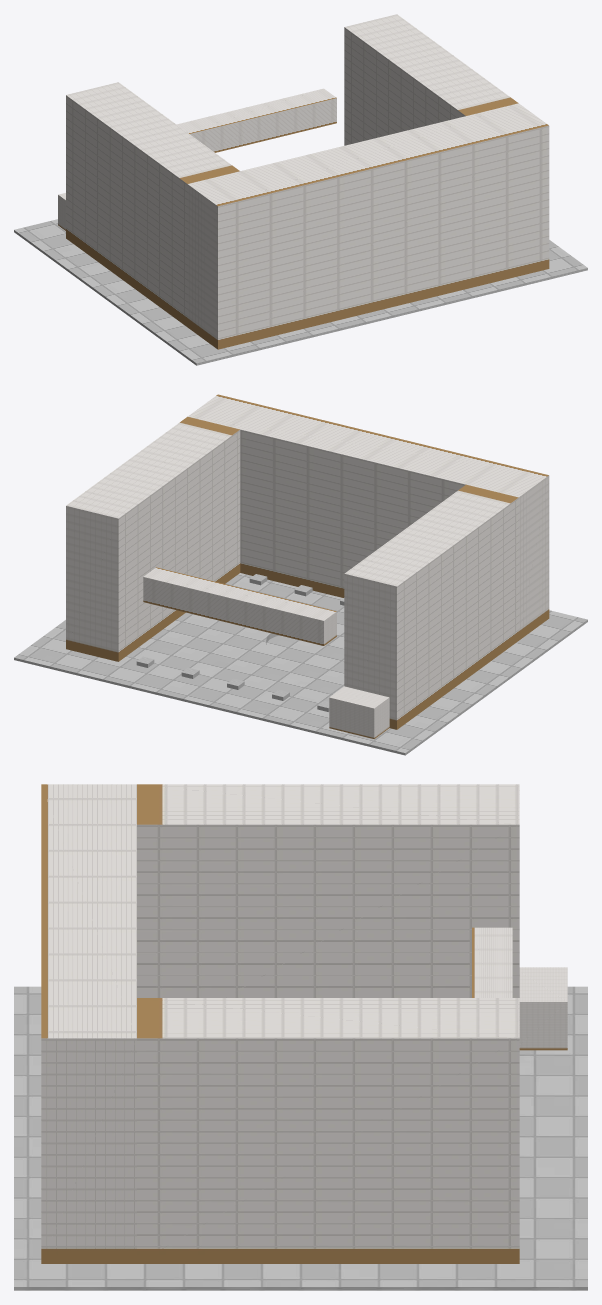
The picture shows the model from 3 angles, top to bottom: view 1: azimuth 30°, elevation 25°; view 2: azimuth 150°, elevation 25°; view 3: azimuth 270°, elevation 25°; orthographic projection. The views are drawn at different scales.
Visible parts, largest first — view 1: 28185_B10_송도_현대프리미엄아울렛; view 2: 28185_B10_송도_현대프리미엄아울렛; view 3: 28185_B10_송도_현대프리미엄아울렛.
Boxes of the visible parts, x1,y1,x2,y2 form: 28185_B10_송도_현대프리미엄아울렛: (14, 14, 587, 365); 28185_B10_송도_현대프리미엄아울렛: (14, 394, 587, 755); 28185_B10_송도_현대프리미엄아울렛: (14, 784, 587, 1290).
Size of the model in its own units: 52 by 18.5 by 42.
1 material, 1 textured.
